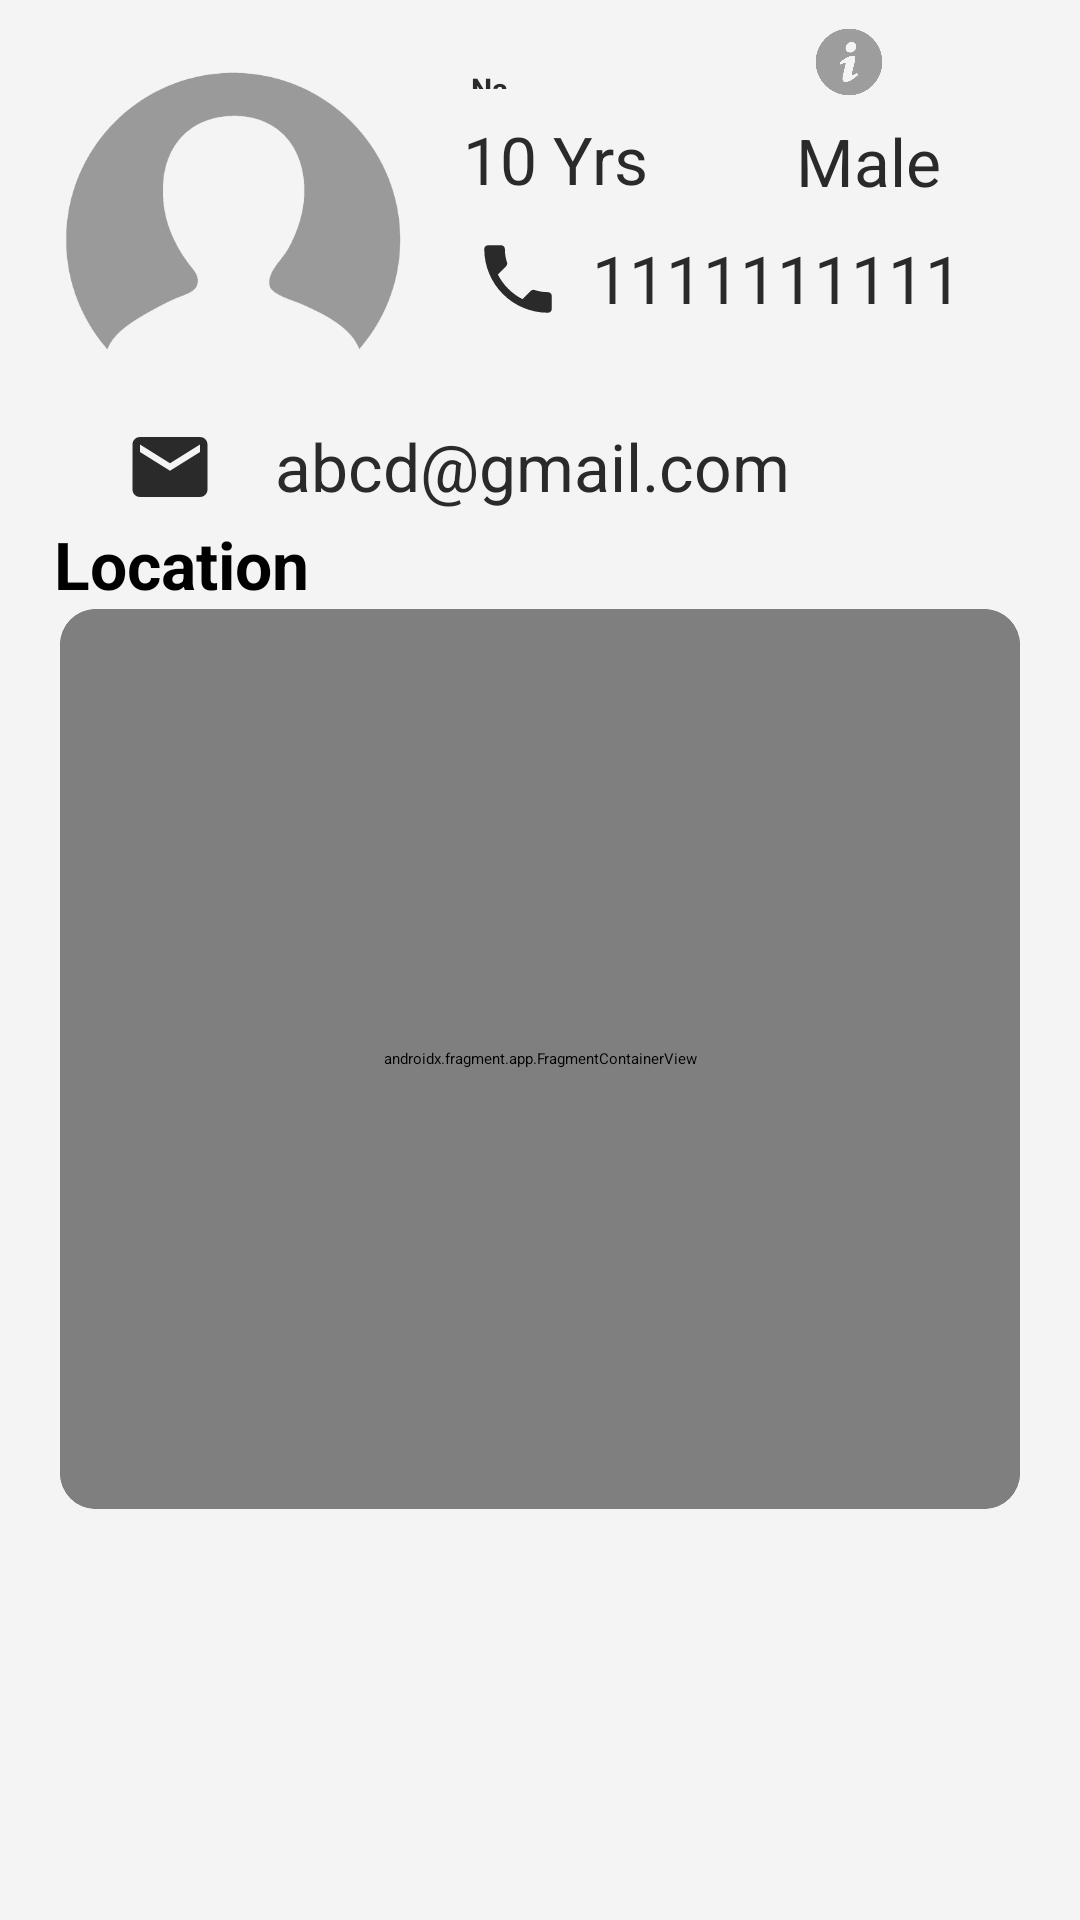

Where to tap for icons on this 1080×1920 app screen, as (x,y):
email: (170,467)
info: (849,62)
phone: (518,279)
profile: (233,210)
